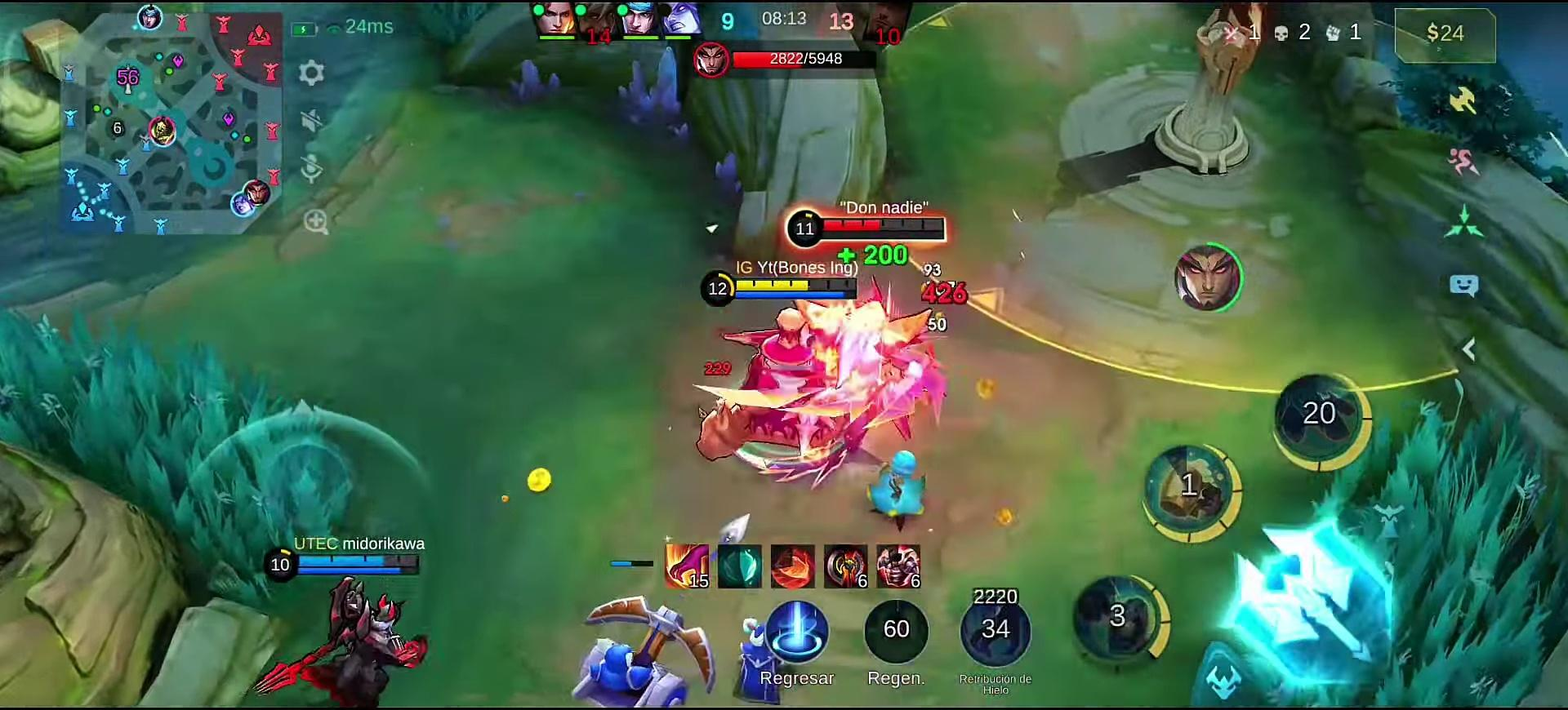bush: (0, 315, 349, 604), (1308, 397, 1561, 700)
hp_enemy: (825, 219, 947, 232)
hp_self: (738, 279, 859, 289)
minion_ally: (577, 595, 715, 703), (736, 613, 791, 701), (866, 451, 923, 528)
turret_enemy: (1156, 4, 1262, 173)
